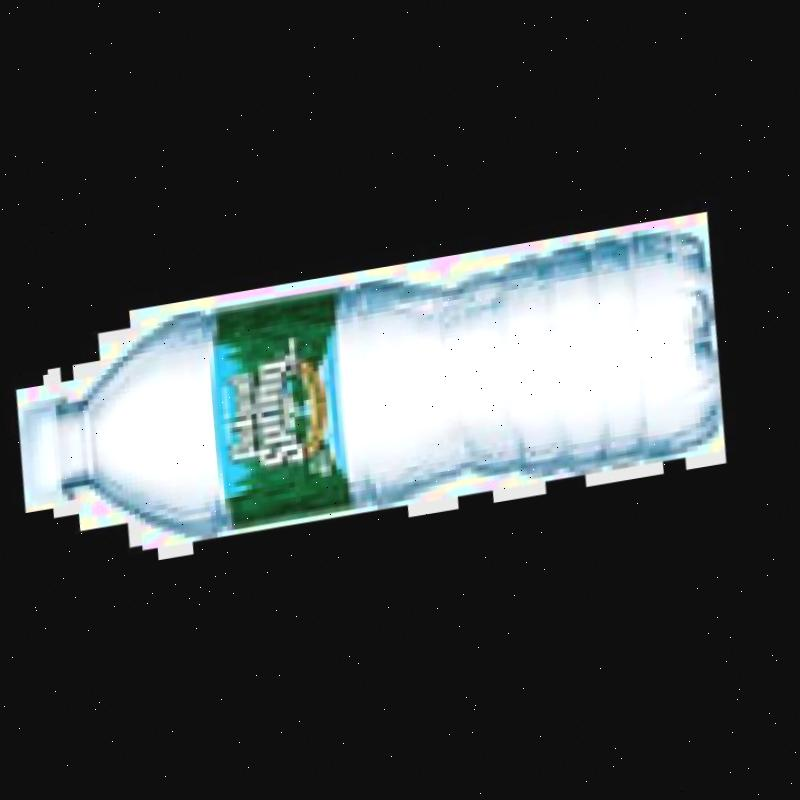botella: (0, 210, 748, 589)
